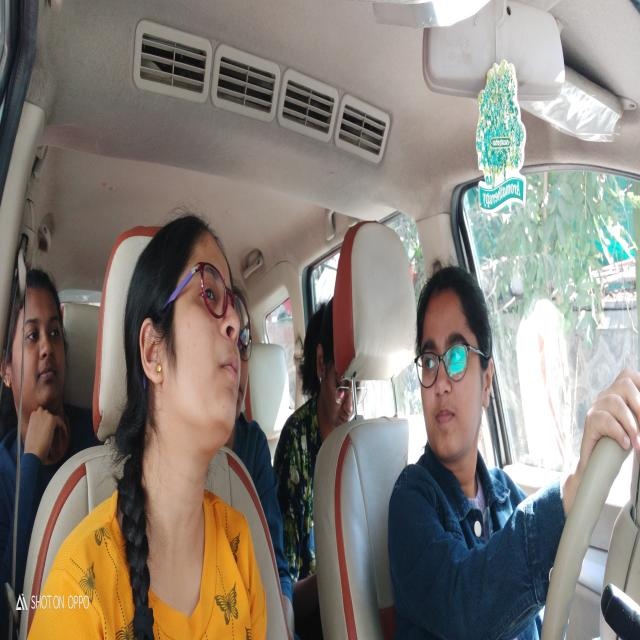LeftRight: (411, 274, 486, 462)
person: (122, 212, 251, 461), (5, 266, 71, 429), (300, 294, 367, 436), (238, 302, 251, 416)
